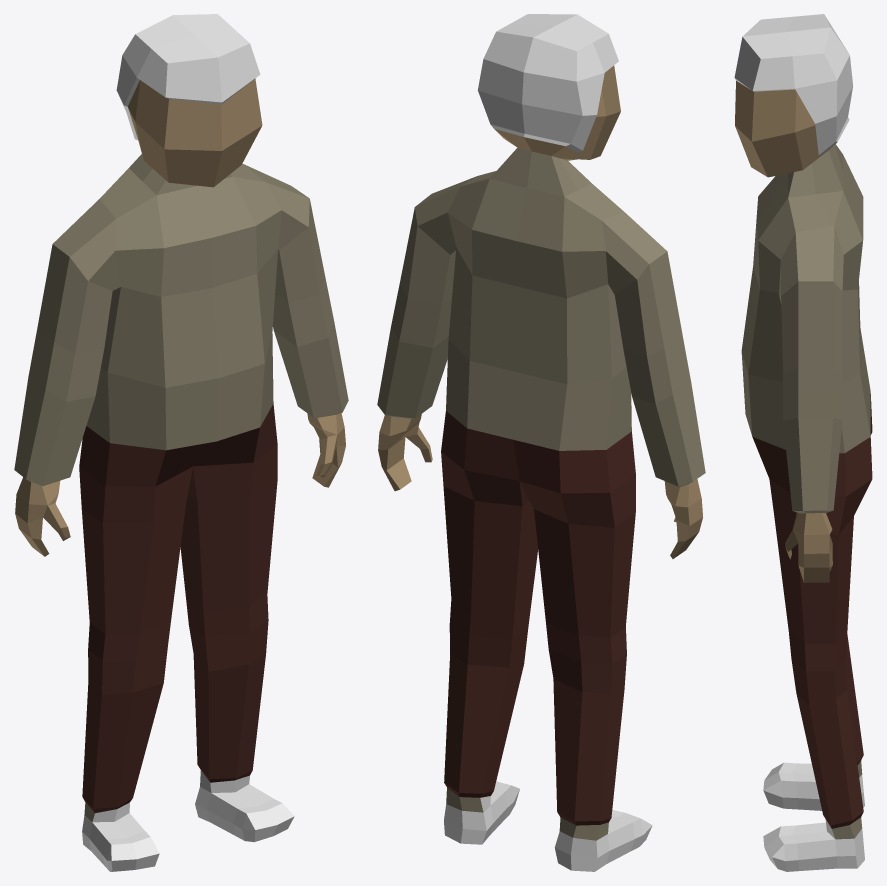
The model's file is TIago_BASE.fbx.
3 views of the same model, side by side, from view 1: azimuth 30°, elevation 25°; view 2: azimuth 150°, elevation 25°; view 3: azimuth 270°, elevation 25° (orthographic).
Visible parts, largest first — view 1: Cube.001_Cube.000; view 2: Cube.001_Cube.000; view 3: Cube.001_Cube.000.
Part boxes in pixels (left/top/right/bottom): Cube.001_Cube.000: left=14, top=14, right=348, bottom=871; Cube.001_Cube.000: left=377, top=14, right=705, bottom=871; Cube.001_Cube.000: left=734, top=14, right=872, bottom=871.
Bounding box in the file's own units: 79.02 × 192 × 29.86.
